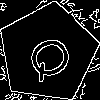Q: (23, 28, 83, 85)
